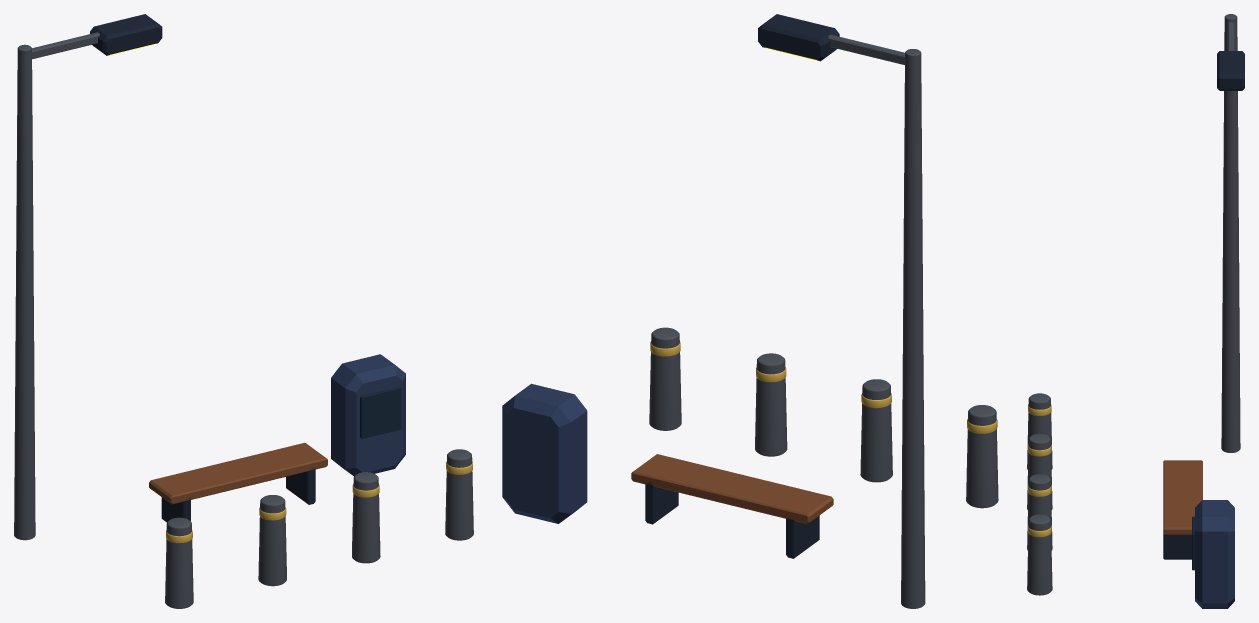
The model's file is spire_terrain_scatter.glb.
3 renders of one model, left to right at view 1: azimuth 30°, elevation 25°; view 2: azimuth 150°, elevation 25°; view 3: azimuth 270°, elevation 25°, orthographic. The views are drawn at different scales.
Parts seen in each view (by area): view 1: scatter_lamp_post, scatter_newsbox, scatter_bench_seat, scatter_bollard0, scatter_bollard2, scatter_bollard3, scatter_bollard1, scatter_lamp_head, scatter_newsbox_window, scatter_bench_leg0.8, scatter_lamp_arm; view 2: scatter_lamp_post, scatter_newsbox, scatter_bench_seat, scatter_bollard3, scatter_bollard1, scatter_bollard2, scatter_bollard0, scatter_lamp_head, scatter_bench_leg-0.8, scatter_bench_leg0.8, scatter_lamp_arm; view 3: scatter_lamp_post, scatter_newsbox, scatter_bench_seat, scatter_bollard3, scatter_lamp_head, scatter_bollard2, scatter_bollard1, scatter_bollard0, scatter_bench_leg0.8.
Part boxes in pixels (x1,y1,x2,y2): scatter_lamp_post: [14, 44, 35, 540]; scatter_newsbox: [331, 354, 405, 476]; scatter_bench_seat: [149, 442, 327, 504]; scatter_bollard0: [165, 517, 193, 608]; scatter_bollard2: [352, 472, 380, 563]; scatter_bollard3: [445, 449, 473, 540]; scatter_bollard1: [258, 495, 286, 586]; scatter_lamp_head: [90, 14, 162, 55]; scatter_newsbox_window: [360, 387, 401, 438]; scatter_bench_leg0.8: [286, 467, 315, 504]; scatter_lamp_arm: [32, 32, 99, 59]; scatter_lamp_post: [901, 49, 925, 608]; scatter_newsbox: [502, 383, 587, 523]; scatter_bench_seat: [631, 454, 833, 523]; scatter_bollard3: [649, 327, 681, 430]; scatter_bollard1: [860, 379, 892, 482]; scatter_bollard2: [755, 353, 787, 456]; scatter_bollard0: [966, 405, 998, 508]; scatter_lamp_head: [758, 14, 839, 61]; scatter_bench_leg-0.8: [786, 515, 819, 558]; scatter_bench_leg0.8: [645, 482, 678, 524]; scatter_lamp_arm: [828, 34, 904, 64]; scatter_lamp_post: [1221, 14, 1240, 452]; scatter_newsbox: [1195, 500, 1234, 608]; scatter_bench_seat: [1163, 460, 1202, 534]; scatter_bollard3: [1027, 514, 1052, 595]; scatter_lamp_head: [1217, 51, 1244, 90]; scatter_bollard2: [1027, 474, 1052, 550]; scatter_bollard1: [1027, 433, 1052, 509]; scatter_bollard0: [1027, 393, 1052, 469]; scatter_bench_leg0.8: [1163, 534, 1191, 559].
Size of the model in its own units: 4.81 by 6.09 by 2.73.
